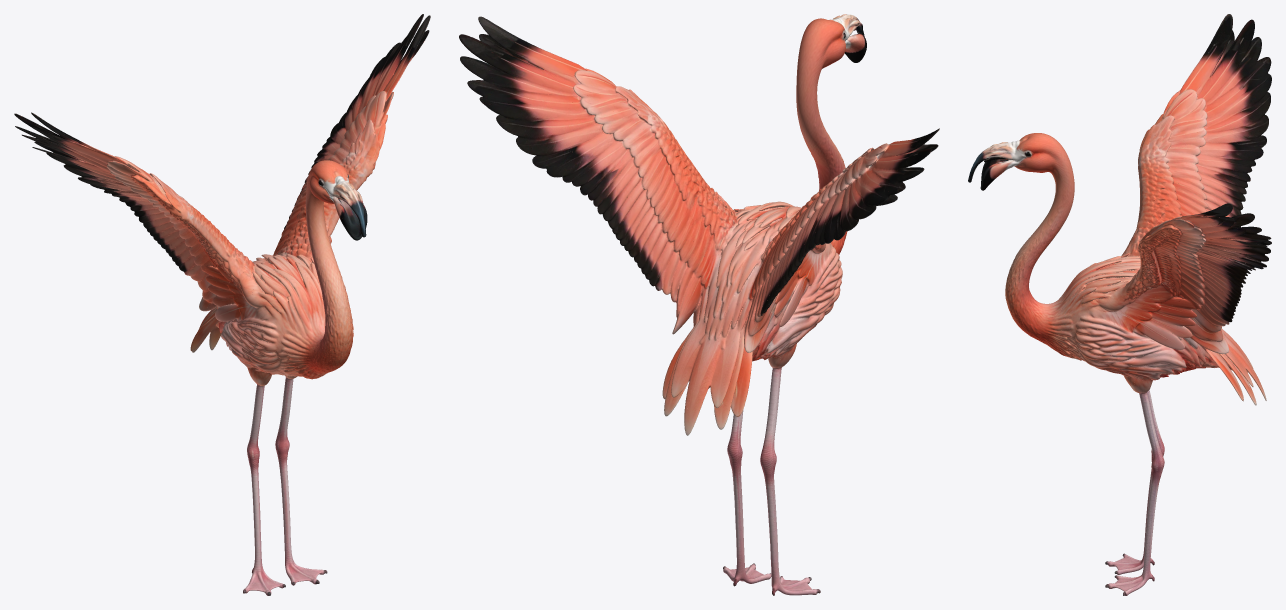
File: flamingo.glb
3 views of the same model, side by side, from view 1: azimuth 30°, elevation 25°; view 2: azimuth 150°, elevation 25°; view 3: azimuth 270°, elevation 25° (orthographic). The views are drawn at different scales.
Visible parts, largest first — view 1: Object_5, Object_10, Object_9, Object_8, Object_7, Object_6; view 2: Object_7, Object_8, Object_6, Object_9, Object_5, Object_10; view 3: Object_5, Object_8, Object_7, Object_10, Object_6, Object_9.
Boxes of the visible parts, <box> form: Object_5: <box>233,160,367,594</box>; Object_10: <box>154,138,380,593</box>; Object_9: <box>118,98,391,508</box>; Object_8: <box>15,14,430,352</box>; Object_7: <box>14,14,429,352</box>; Object_6: <box>82,53,412,595</box>; Object_7: <box>459,19,936,435</box>; Object_8: <box>460,16,939,434</box>; Object_6: <box>526,42,910,595</box>; Object_9: <box>586,68,889,520</box>; Object_5: <box>754,14,866,590</box>; Object_10: <box>639,98,860,595</box>; Object_5: <box>968,133,1141,588</box>; Object_8: <box>1156,14,1271,405</box>; Object_7: <box>1177,23,1266,405</box>; Object_10: <box>1097,137,1160,595</box>; Object_6: <box>1077,61,1240,595</box>; Object_9: <box>1132,90,1188,479</box>.
Size of the model in its own units: 1.69 by 1.9 by 1.12.
1 material, 1 textured.
